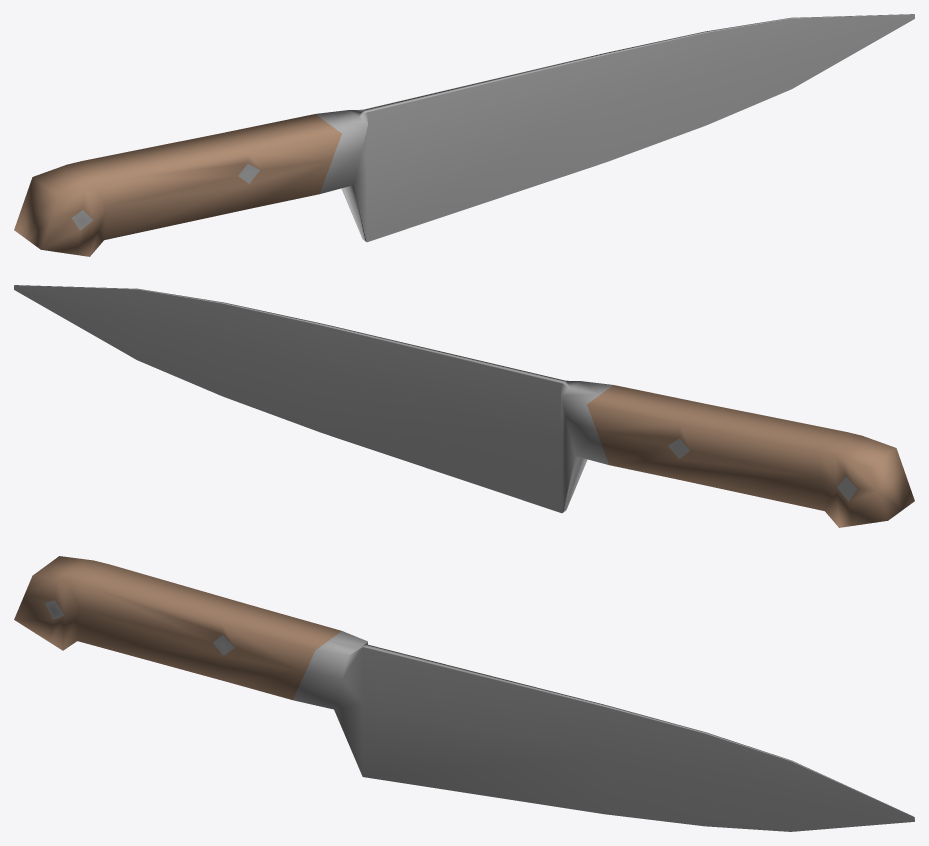
Rendered from knifeV1.fbx.
3 views of the same model, one above another, from view 1: azimuth 30°, elevation 25°; view 2: azimuth 150°, elevation 25°; view 3: azimuth 330°, elevation 25° (orthographic).
Visible parts, largest first — view 1: Knife; view 2: Knife; view 3: Knife.
Boxes of the visible parts, <box> form: Knife: <box>14,14,914,256</box>; Knife: <box>14,285,914,527</box>; Knife: <box>14,556,914,831</box>.
Size of the model in its own units: 97.16 by 14.21 by 5.28.
